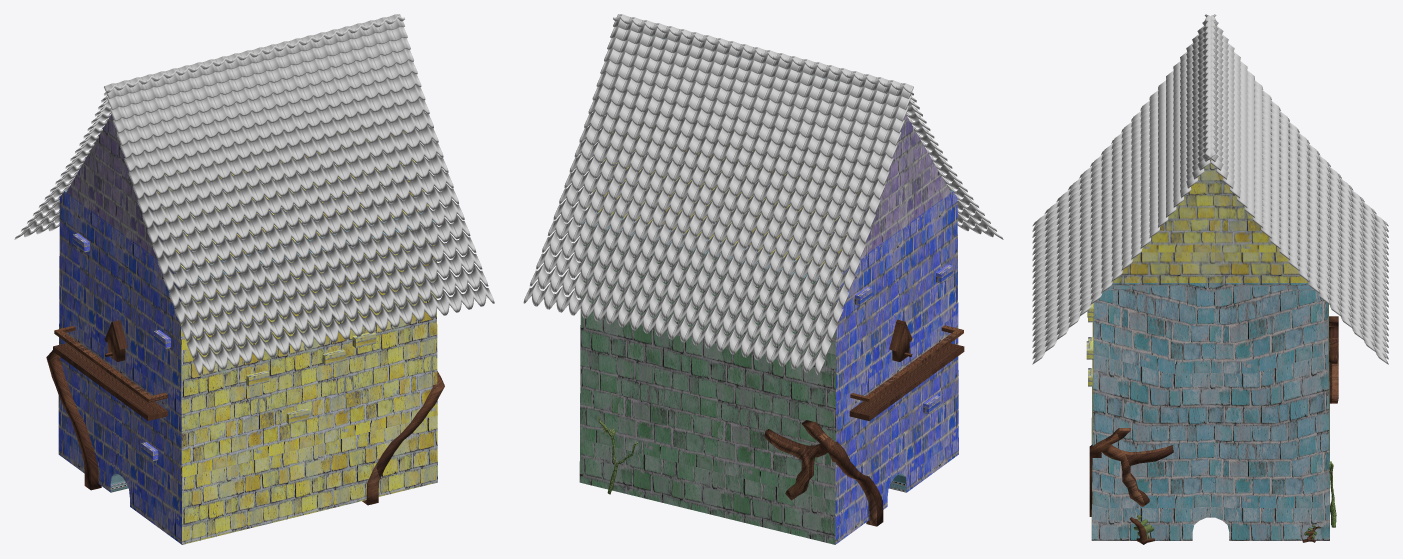
File: Windmill.fbx
The picture shows the model from 3 angles, left to right: view 1: azimuth 30°, elevation 25°; view 2: azimuth 150°, elevation 25°; view 3: azimuth 270°, elevation 25°; orthographic projection. The views are drawn at different scales.
Parts seen in each view (by area): view 1: Cube; view 2: Cube; view 3: Cube.
Part boxes in pixels (bbox=[...]): Cube: bbox=[14, 14, 494, 544]; Cube: bbox=[523, 14, 1003, 544]; Cube: bbox=[1032, 14, 1388, 544].
Size of the model in its own units: 1002 by 1341 by 1065.
